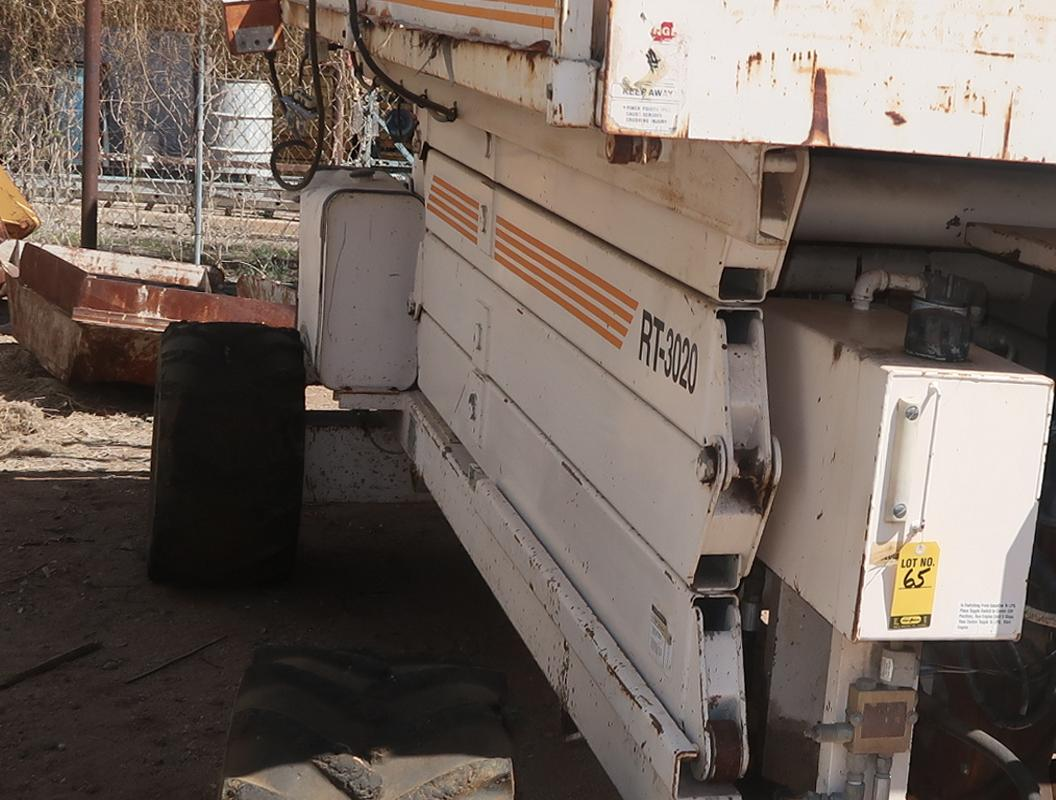rust: (734, 4, 1050, 91), (68, 282, 159, 382), (9, 238, 65, 366), (400, 35, 556, 76), (165, 282, 300, 329)
